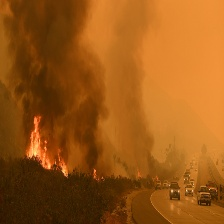fire: (25, 114, 75, 179), (92, 167, 105, 181), (135, 171, 145, 180), (155, 175, 160, 182)
smoke: (2, 3, 220, 155)
